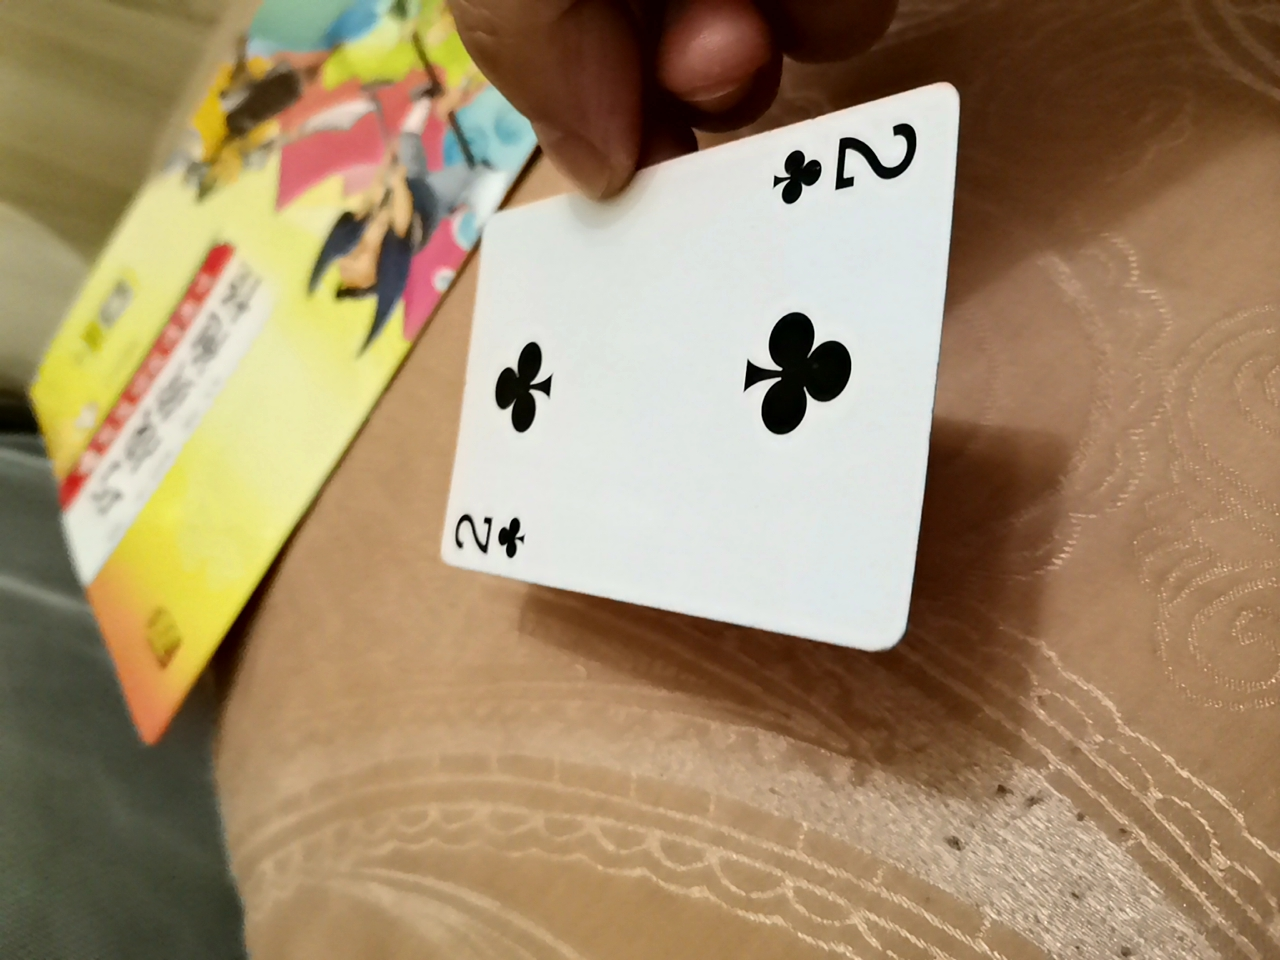mh 2: (430, 93, 967, 628)
